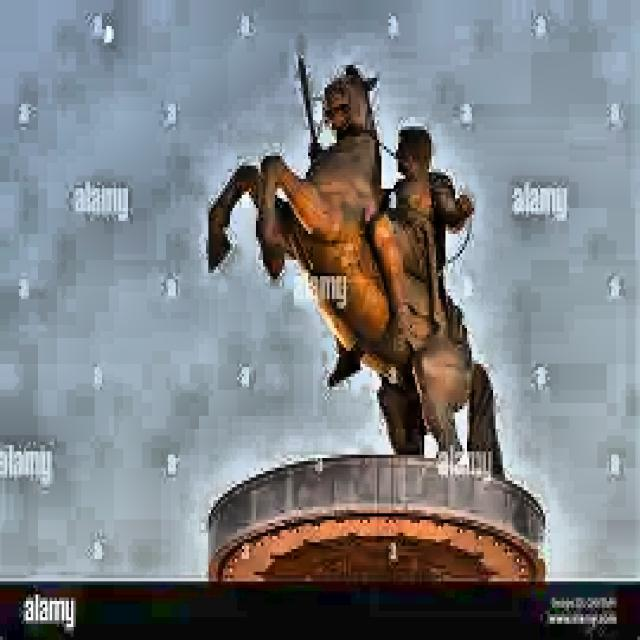alexander the great monument: (200, 42, 552, 588)
